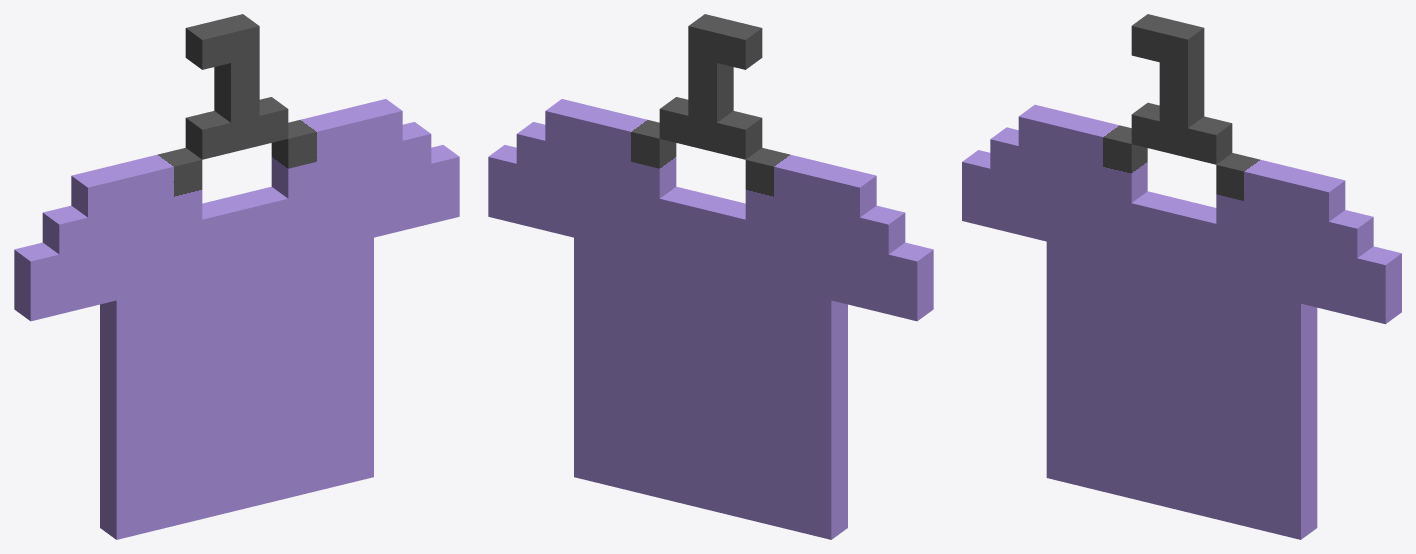
File: koszulka3.dae
The picture shows the model from 3 angles, left to right: view 1: azimuth 30°, elevation 25°; view 2: azimuth 150°, elevation 25°; view 3: azimuth 330°, elevation 25°; orthographic projection.
Visible parts, largest first — view 1: koszulka; view 2: koszulka; view 3: koszulka.
Boxes of the visible parts, bbox=[...] form: koszulka: bbox=[14, 14, 459, 539]; koszulka: bbox=[488, 14, 933, 539]; koszulka: bbox=[962, 14, 1401, 539].
Size of the model in its own units: 15 by 16 by 1.
